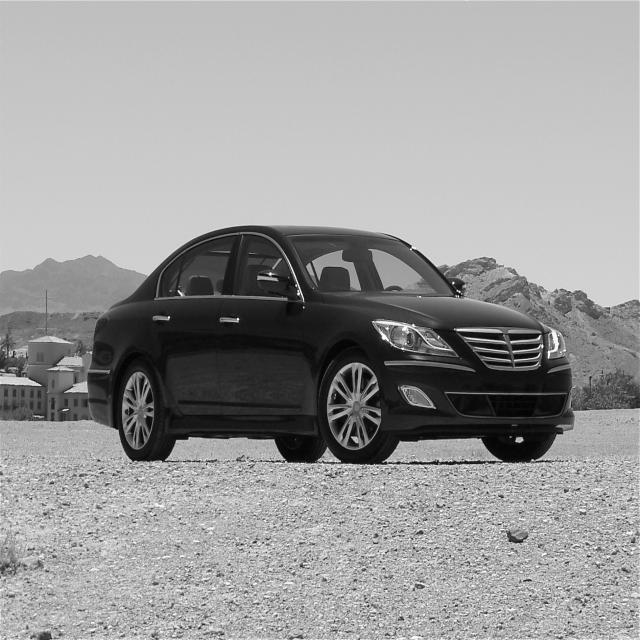car: (87, 224, 576, 464)
